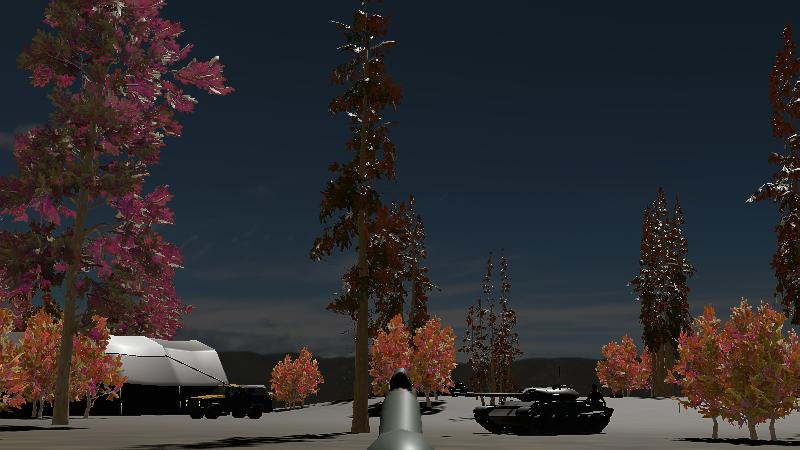Tank: (446, 381, 618, 437)
car: (184, 381, 273, 422)
